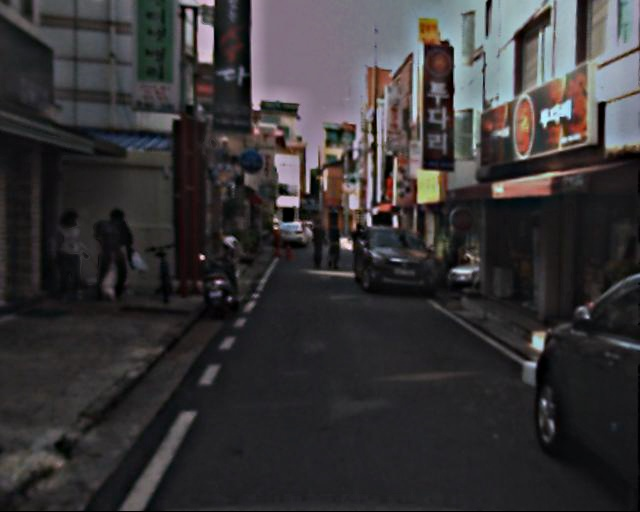person: (51, 206, 104, 305), (95, 204, 142, 300), (349, 221, 370, 272), (325, 222, 345, 271), (309, 219, 329, 267)
